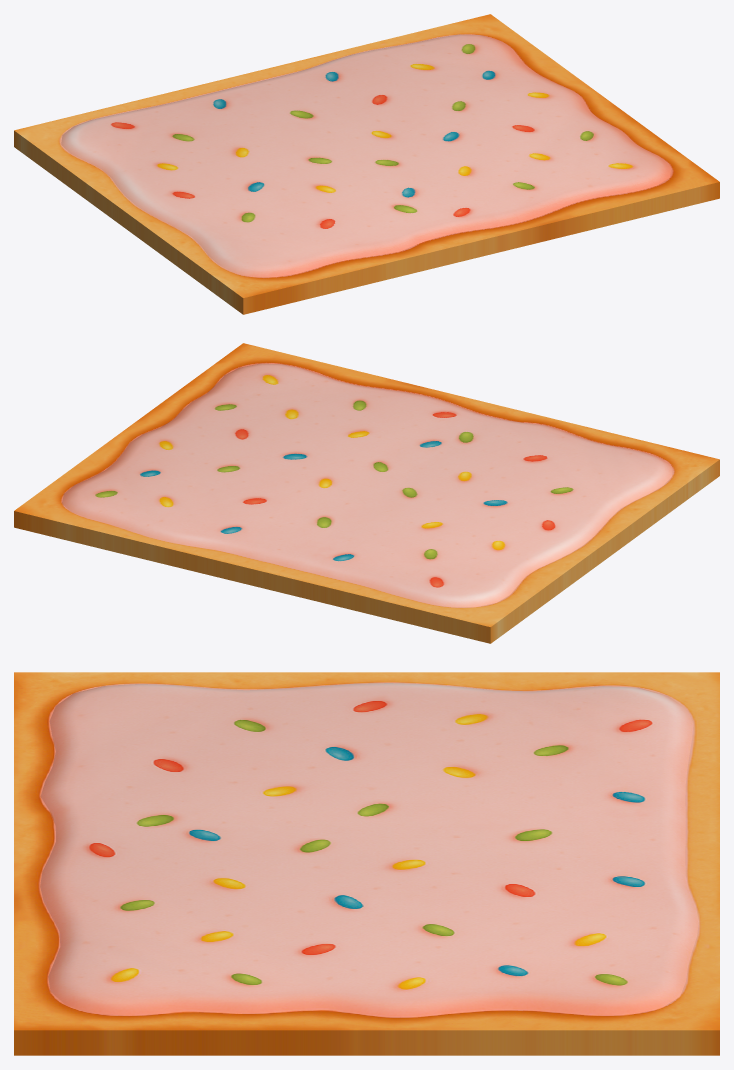
The model's file is Floor_001.fbx.
3 views of the same model, one above another, from view 1: azimuth 30°, elevation 25°; view 2: azimuth 150°, elevation 25°; view 3: azimuth 270°, elevation 25° (orthographic). The views are drawn at different scales.
Parts seen in each view (by area): view 1: Floor_001; view 2: Floor_001; view 3: Floor_001.
Boxes of the visible parts, x1,y1,x2,y2 form: Floor_001: (14, 14, 719, 314); Floor_001: (14, 343, 719, 643); Floor_001: (14, 672, 719, 1055).
Bounding box in the file's own units: 6 × 0.3112 × 5.
